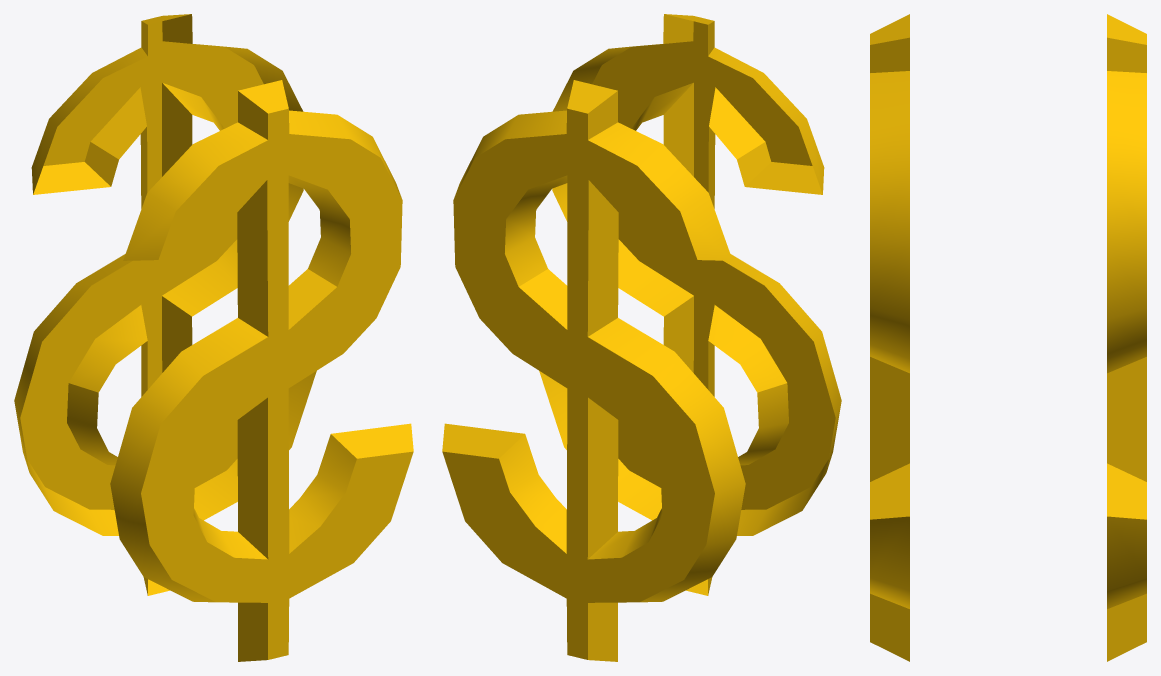
Rendered from Dollar.fbx.
3 renders of one model, left to right at view 1: azimuth 30°, elevation 25°; view 2: azimuth 150°, elevation 25°; view 3: azimuth 270°, elevation 25°, orthographic. The views are drawn at different scales.
Visible parts, largest first — view 1: Dollar; view 2: Dollar; view 3: Dollar.
Part boxes in pixels (x1,y1,x2,y2): Dollar: (14, 14, 413, 661); Dollar: (442, 14, 841, 661); Dollar: (870, 14, 1146, 661).
Bounding box in the file's own units: 63.25 × 115 × 46.12.
